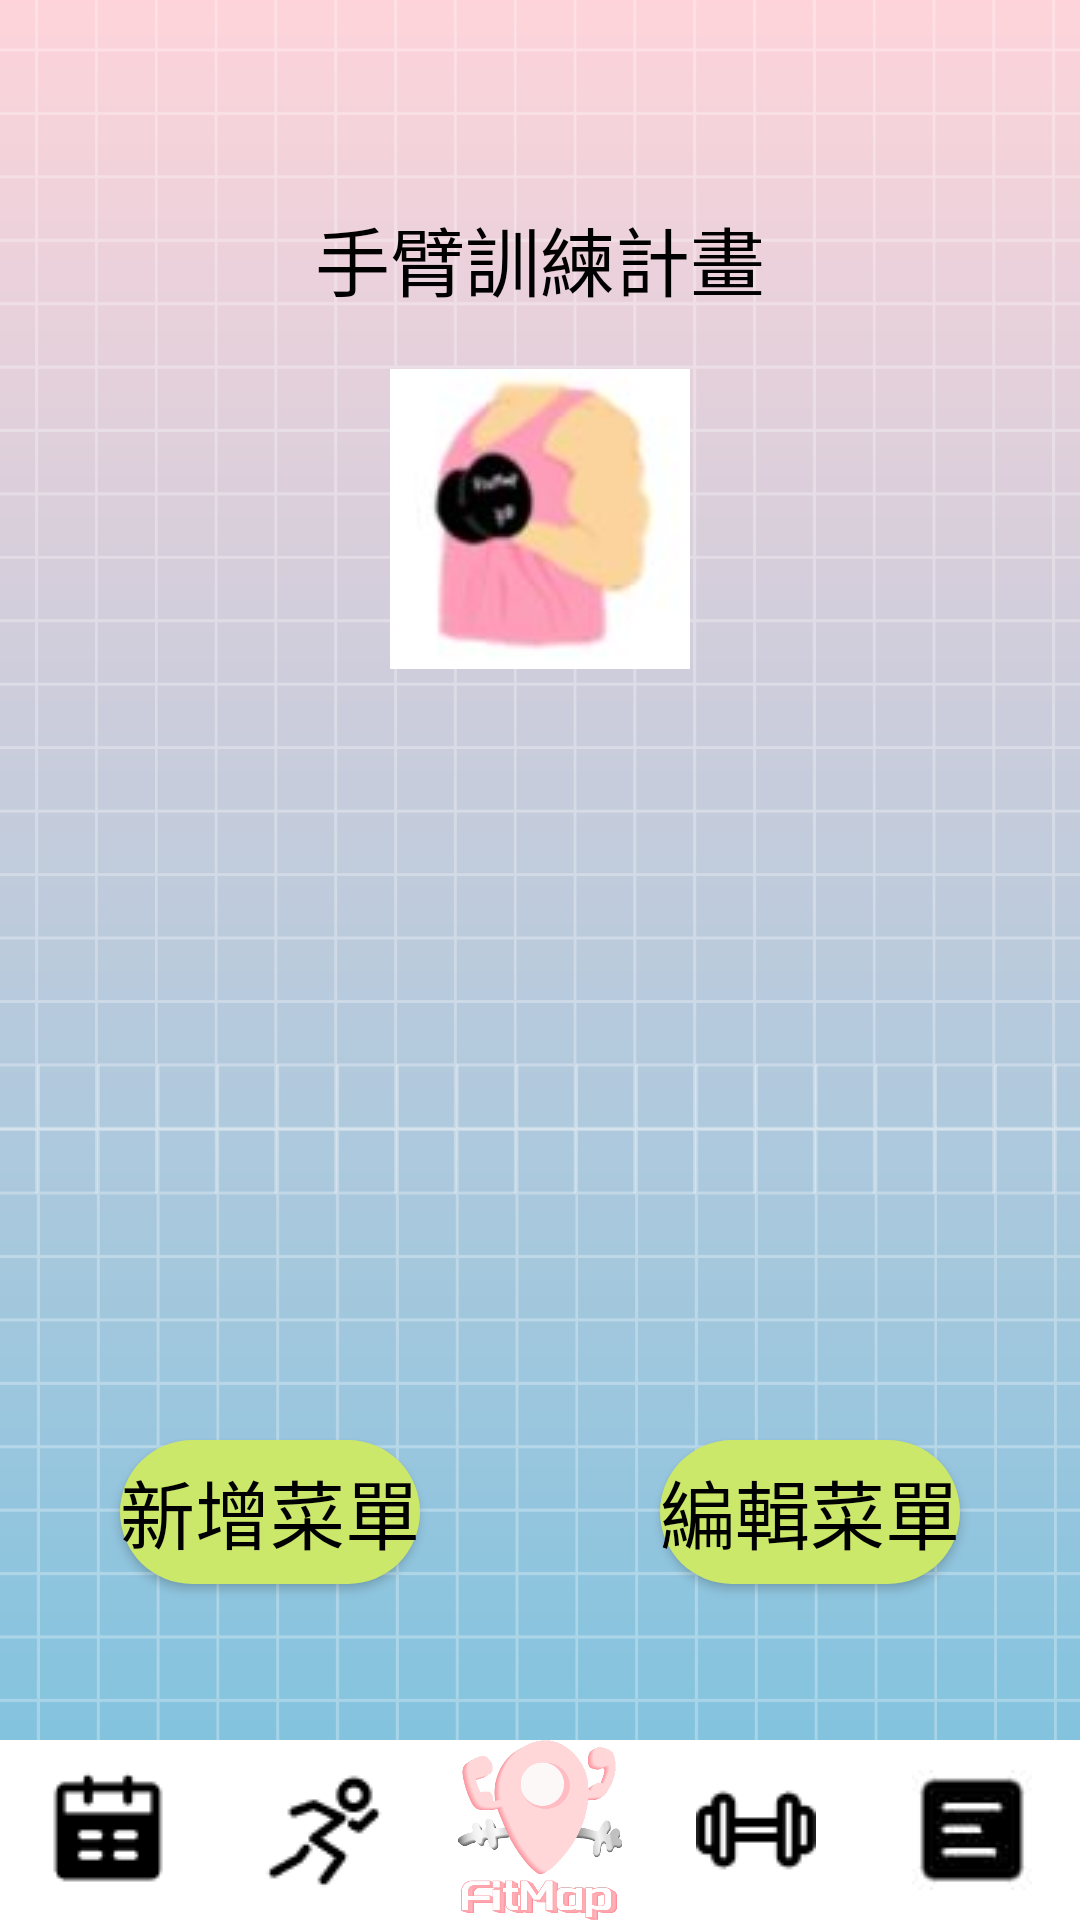

Screen size 1080px x 1920px. Icon name, then its box in pixels as rect(x1, y1, x2, y2):
article: rect(920, 1778, 1024, 1882)
reservation: rect(53, 1774, 163, 1882)
run: rect(268, 1775, 380, 1885)
